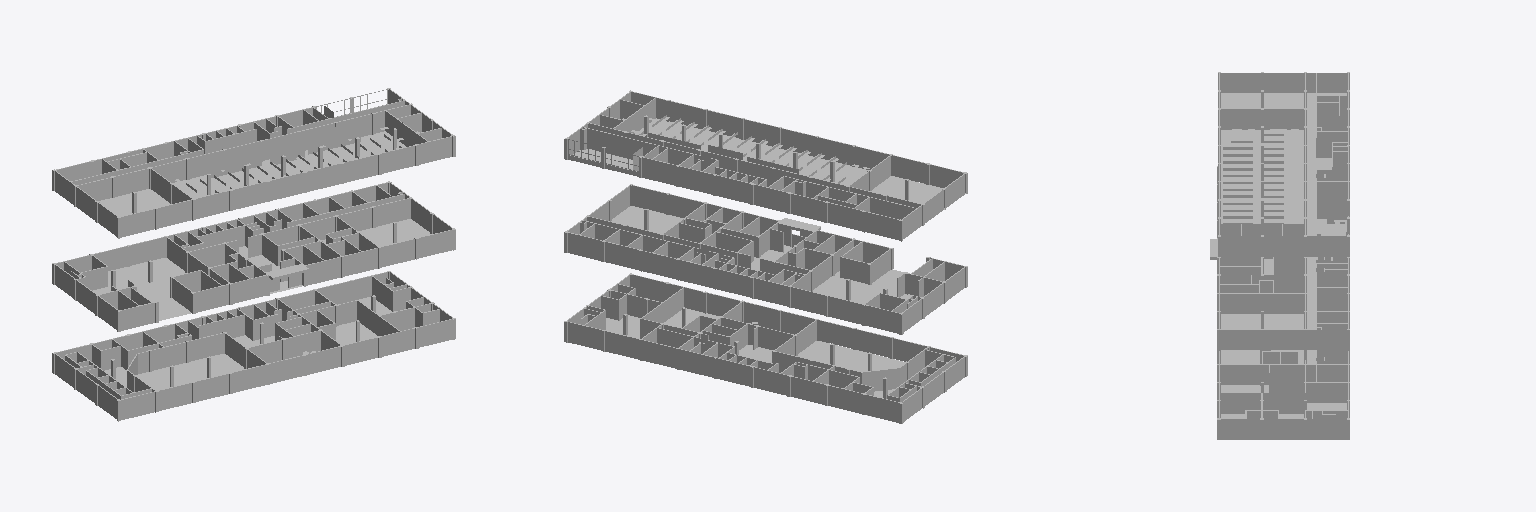
The model's file is building_kosugi_161014_mod.obj.
3 views of the same model, side by side, from view 1: azimuth 30°, elevation 25°; view 2: azimuth 150°, elevation 25°; view 3: azimuth 270°, elevation 25° (orthographic).
Visible parts, largest first — view 1: b1, 1f, main, floor, 2f, rs, c30, partition, staff, mt-e1; view 2: 1f, b1, 2f, main, floor, rs, mt-e1, c30, staff, partition; view 3: floor, b1, 1f, 2f, main, c30, staff, mt-e1, rs.
Part boxes in pixels (left/top/right/bottom): b1: left=52, top=271, right=455, bottom=421; 1f: left=52, top=181, right=455, bottom=331; main: left=148, top=103, right=455, bottom=220; floor: left=93, top=131, right=430, bottom=390; 2f: left=52, top=100, right=409, bottom=238; rs: left=244, top=329, right=344, bottom=384; c30: left=298, top=215, right=381, bottom=277; partition: left=209, top=121, right=360, bottom=177; staff: left=186, top=134, right=401, bottom=192; mt-e1: left=303, top=88, right=404, bottom=125; 1f: left=564, top=184, right=967, bottom=334; b1: left=564, top=273, right=967, bottom=423; 2f: left=582, top=123, right=967, bottom=241; main: left=587, top=90, right=892, bottom=191; floor: left=573, top=118, right=942, bottom=417; rs: left=719, top=300, right=818, bottom=355; mt-e1: left=564, top=127, right=667, bottom=179; c30: left=660, top=202, right=743, bottom=248; staff: left=639, top=115, right=846, bottom=183; partition: left=648, top=133, right=798, bottom=173; floor: left=1221, top=93, right=1346, bottom=418; b1: left=1217, top=350, right=1349, bottom=439; 1f: left=1210, top=166, right=1349, bottom=350; 2f: left=1218, top=72, right=1349, bottom=256; main: left=1218, top=108, right=1306, bottom=256; c30: left=1217, top=274, right=1306, bottom=313; staff: left=1223, top=134, right=1283, bottom=223; mt-e1: left=1316, top=194, right=1349, bottom=256; rs: left=1217, top=350, right=1263, bottom=385.
Size of the model in its own units: 9.27 by 5.33 by 3.33.